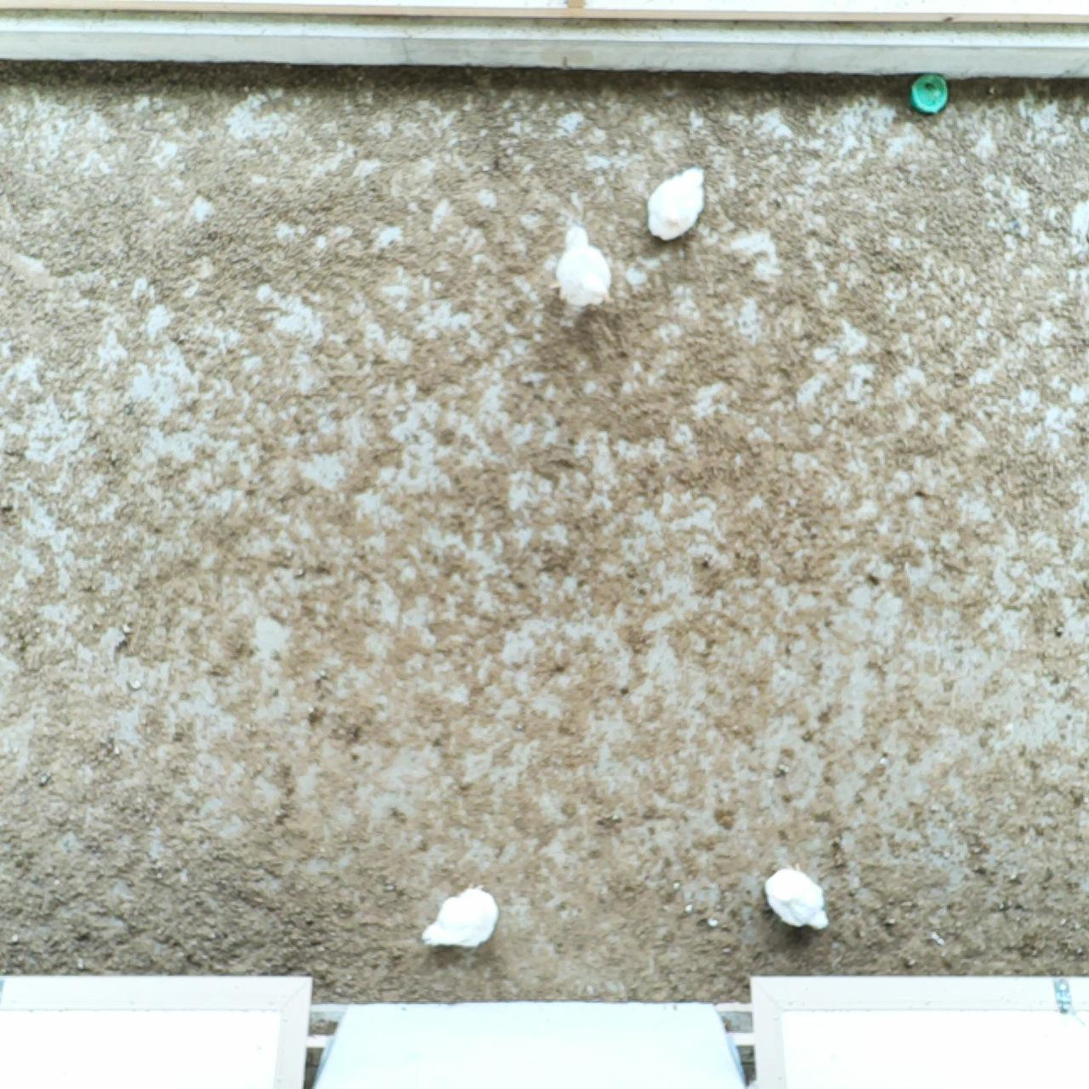chicken: (418, 880, 502, 955), (643, 163, 713, 250), (547, 225, 615, 312), (761, 860, 833, 931)
